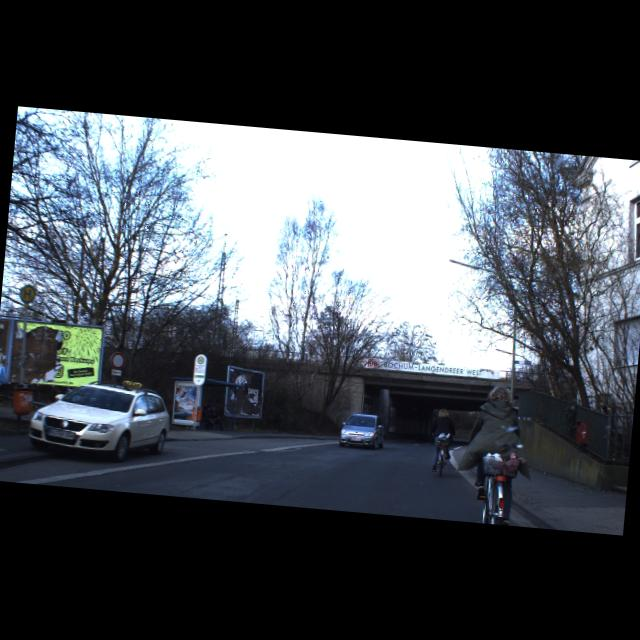prohibitory: (108, 350, 125, 369)
